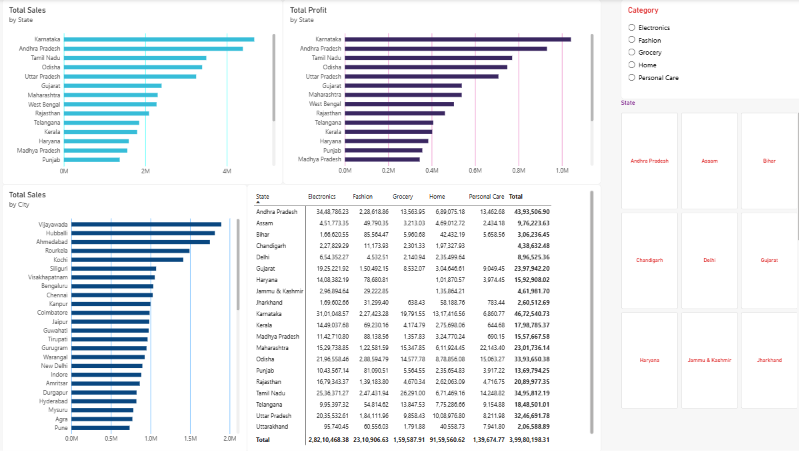

The dashboard page shown, as its layout file describes it:
{"tool":"powerbi","page":{"name":"Regional Performance","canvas":[1920,1080],"ordinal":3},"visuals":[{"type":"barChart","fields":{"Category":["Invoice_Data.State"],"Y":["Invoice_Data.Total Sales"]},"box":[10,0,670,442],"z":0},{"type":"barChart","fields":{"Category":["Invoice_Data.State"],"Y":["Invoice_Data.Total Profit"]},"box":[680,0,758.7,441.4],"z":1},{"type":"barChart","fields":{"Category":["Invoice_Data.City"],"Y":["Invoice_Data.Total Sales"]},"box":[9.5,441.4,584.5,639.4],"z":2},{"type":"pivotTable","fields":{"Columns":["Invoice_Data.Category"],"Rows":["Invoice_Data.State"],"Values":["Invoice_Data.Total Sales"]},"box":[594.1,441.4,844.6,639.4],"z":3},{"type":"advancedSlicerVisual","fields":{"Values":["Invoice_Data.State"]},"box":[1486.4,238.6,434,740],"z":4},{"type":"listSlicer","fields":{"Values":["Invoice_Data.Category"]},"box":[1486.4,0,434,238],"z":5}]}

Visuals, with their boxes in screenshot pixels (x1, y1, x2, y2), scaled from the page's 1920x1080 canvas onto the 799x451 screenshot:
barChart - Invoice_Data.State x Invoice_Data.Total Sales: <region>4, 0, 283, 185</region>
barChart - Invoice_Data.State x Invoice_Data.Total Profit: <region>283, 0, 599, 184</region>
barChart - Invoice_Data.City x Invoice_Data.Total Sales: <region>4, 184, 247, 450</region>
pivotTable - Invoice_Data.Category x Invoice_Data.State: <region>247, 184, 599, 450</region>
advancedSlicerVisual - Invoice_Data.State: <region>619, 100, 798, 409</region>
listSlicer - Invoice_Data.Category: <region>619, 0, 798, 99</region>
